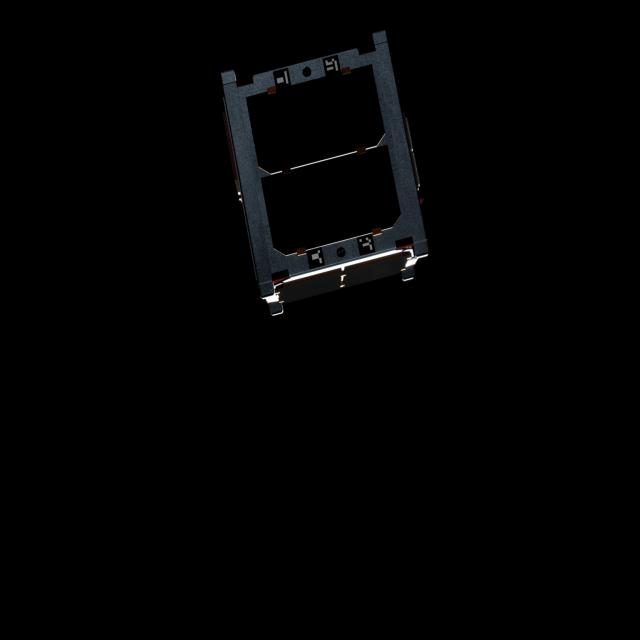medium_debris: (212, 25, 463, 320)
